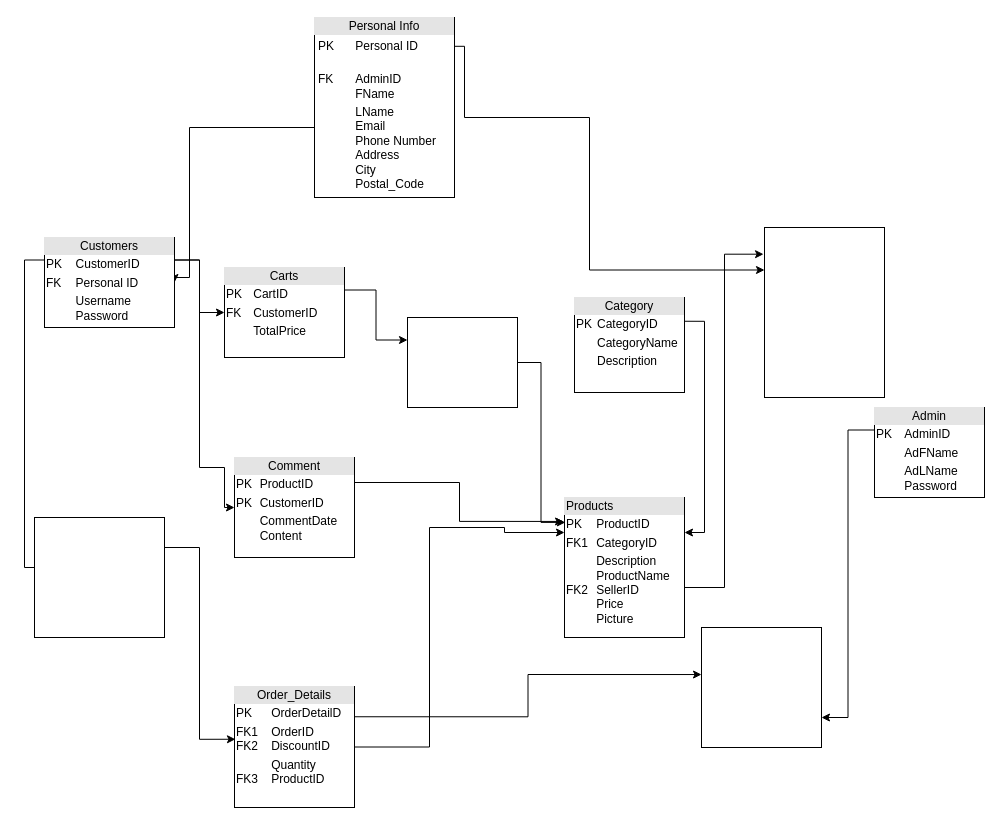
Image size: 1002x825. Some labels were removed from this diagram. The shapes that lost their labels are listed below. From the top down, each one's centre as x and y in pixels, then its label:
At (824,312): "Sellers PK SellerID FK Personal ID Username Password ShopName BusinessLisence".
At (462,362): "Cart_Product PK CartID PK ProductID Quantity".
At (99,577): "Orders PK OrderID FK CustomerID OrderDate PaymentType PaymentDate".
At (761,687): "Discounts PK DiscountID FK2 StartDate EndDate AdminID DiscountPercent".
